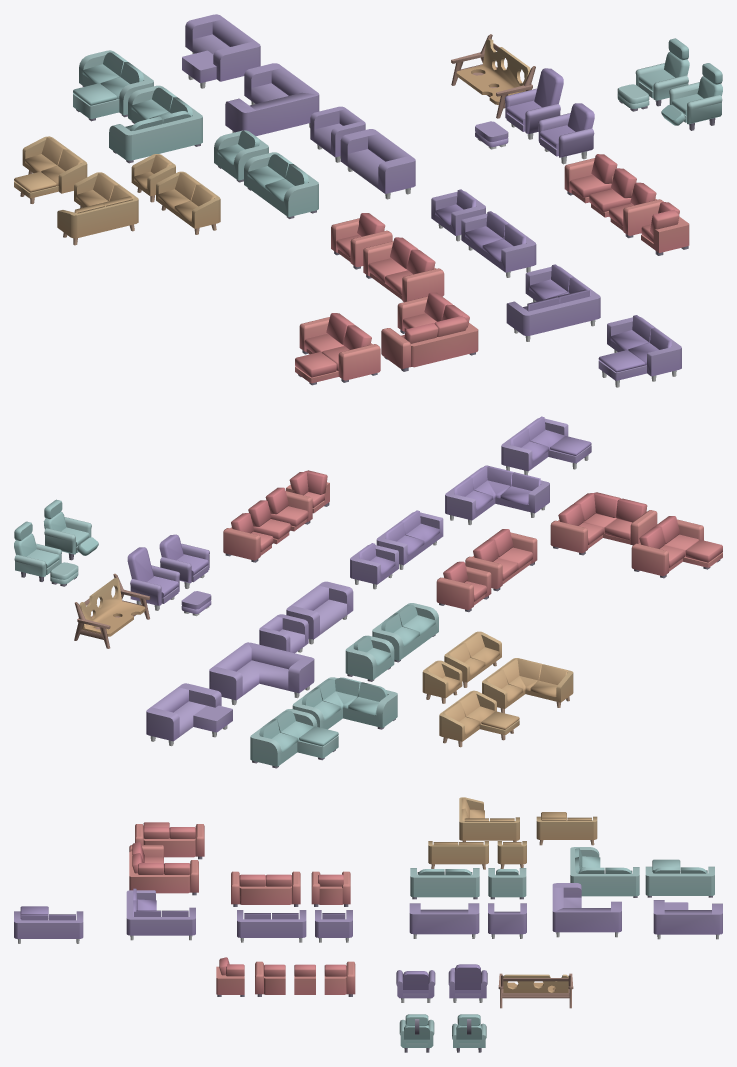
Rendered from sofas.glb.
The picture shows the model from 3 angles, top to bottom: view 1: azimuth 30°, elevation 25°; view 2: azimuth 150°, elevation 25°; view 3: azimuth 270°, elevation 25°; orthographic projection. The views are drawn at different scales.
Parts seen in each view (by area): view 1: amsterdam-sofa-corner-lounge, budapest-sofa-corner, manhattan-sofa-corner, amsterdam-sofa-lounge, stockholm-sofa-corner, manhattan-sofa-lounge, stockholm-sofa-lounge, vegas-sofa-corner, budapest-sofa-lounge, amsterdam-sofa, manhattan-sofa, budapest-sofa (+19 smaller); view 2: amsterdam-sofa-corner-lounge, manhattan-sofa-corner, stockholm-sofa-corner, budapest-sofa-corner, amsterdam-sofa-lounge, manhattan-sofa-lounge, budapest-sofa-lounge, vegas-sofa-corner, stockholm-sofa-lounge, saycheese (%secret), vegas-sofa-lounge, amsterdam-sofa (+18 smaller); view 3: amsterdam-sofa-corner-lounge, manhattan-sofa-corner, budapest-sofa-corner, stockholm-sofa-corner, budapest-sofa-lounge, amsterdam-sofa, manhattan-sofa-lounge, stockholm-sofa-lounge, budapest-sofa, manhattan-sofa, amsterdam-sofa-lounge, vegas-sofa-corner (+17 smaller).
Part boxes in pixels (box(x1,y1,x2,y2)): amsterdam-sofa-corner-lounge: box(381, 292, 478, 371); budapest-sofa-corner: box(109, 85, 202, 163); manhattan-sofa-corner: box(225, 63, 319, 136); amsterdam-sofa-lounge: box(295, 313, 380, 385); stockholm-sofa-corner: box(506, 264, 600, 341); manhattan-sofa-lounge: box(182, 14, 260, 88); stockholm-sofa-lounge: box(598, 315, 681, 387); vegas-sofa-corner: box(57, 172, 138, 245); budapest-sofa-lounge: box(73, 50, 153, 121); amsterdam-sofa: box(363, 237, 444, 301); manhattan-sofa: box(340, 129, 415, 199); budapest-sofa: box(244, 152, 318, 218); amsterdam-sofa-corner-lounge: box(550, 492, 657, 555); manhattan-sofa-corner: box(209, 642, 314, 705); stockholm-sofa-corner: box(445, 465, 549, 525); budapest-sofa-corner: box(292, 677, 397, 729); amsterdam-sofa-lounge: box(631, 516, 722, 578); manhattan-sofa-lounge: box(146, 683, 232, 746); budapest-sofa-lounge: box(250, 709, 338, 768); vegas-sofa-corner: box(482, 658, 573, 713); stockholm-sofa-lounge: box(501, 416, 591, 475); saycheese (%secret): box(74, 573, 150, 648); vegas-sofa-lounge: box(439, 690, 519, 747); amsterdam-sofa: box(465, 529, 537, 591); amsterdam-sofa-corner-lounge: box(129, 842, 198, 895); manhattan-sofa-corner: box(552, 883, 621, 937); budapest-sofa-corner: box(570, 847, 639, 897); stockholm-sofa-corner: box(126, 888, 195, 940); budapest-sofa-lounge: box(645, 859, 714, 897); amsterdam-sofa: box(231, 871, 300, 906); manhattan-sofa-lounge: box(653, 900, 722, 939); stockholm-sofa-lounge: box(14, 906, 83, 943); budapest-sofa: box(410, 868, 479, 899); manhattan-sofa: box(409, 903, 479, 938); amsterdam-sofa-lounge: box(135, 822, 204, 859); vegas-sofa-corner: box(459, 797, 519, 841).
Bounding box in the file's own units: 12.81 × 1.05 × 16.3.
